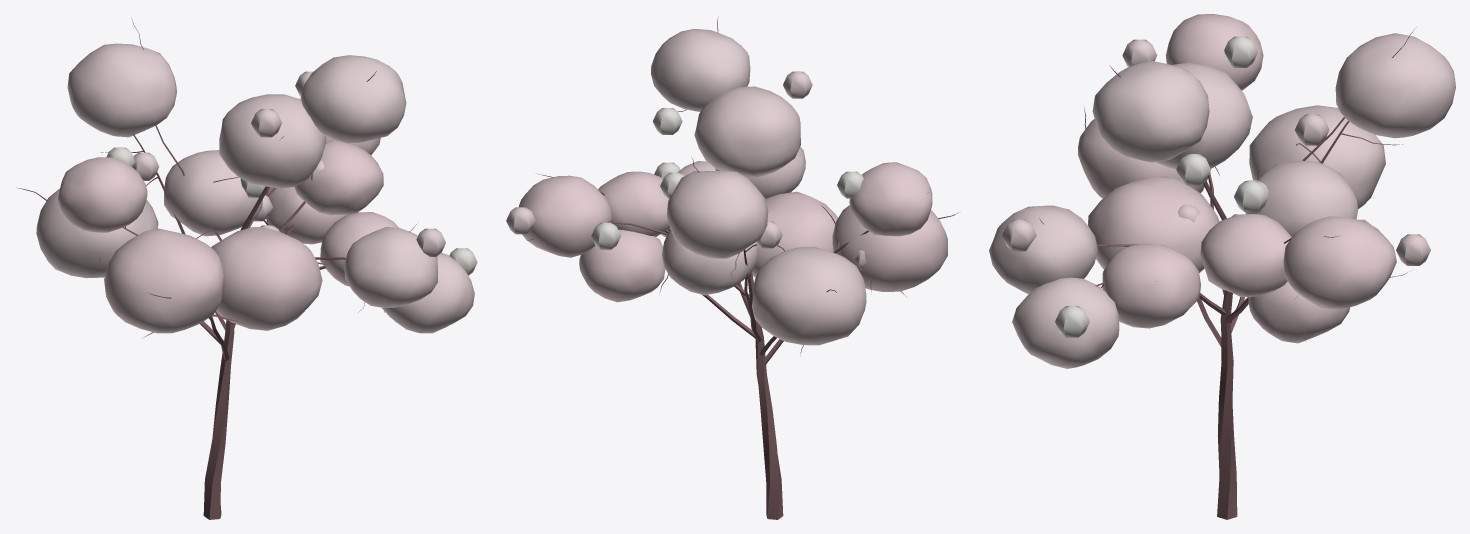
The model's file is hybrid_apple_blossom.glb.
3 views of the same model, side by side, from view 1: azimuth 30°, elevation 25°; view 2: azimuth 150°, elevation 25°; view 3: azimuth 270°, elevation 25° (orthographic). The views are drawn at different scales.
Parts seen in each view (by area): view 1: hybrid_apple_blossom; view 2: hybrid_apple_blossom; view 3: hybrid_apple_blossom.
Part boxes in pixels (bbox=[...]): hybrid_apple_blossom: bbox=[16, 18, 477, 519]; hybrid_apple_blossom: bbox=[506, 16, 958, 519]; hybrid_apple_blossom: bbox=[989, 14, 1455, 519].
Bounding box in the file's own units: 5.06 × 6 × 4.95.
